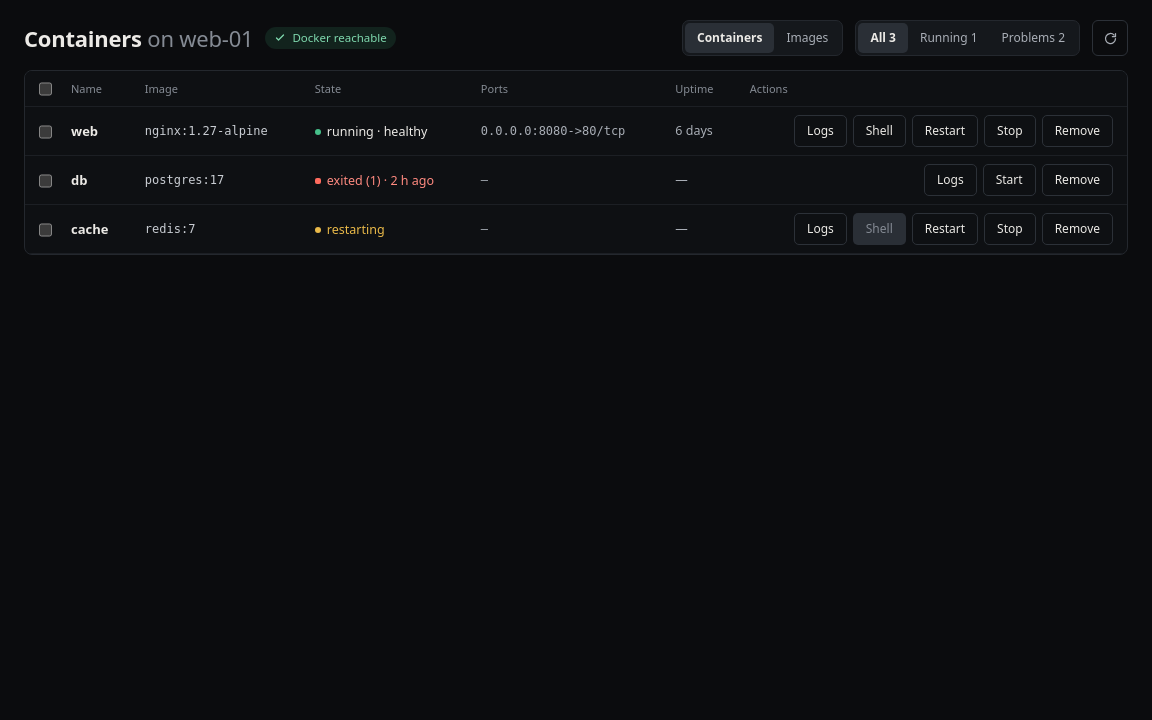
Scenario: DockerWorkspace › restarts after confirmation, reports it and refreshes the list
The width and height of the screenshot is (1152, 720).
Expected: the text "Docker reachable" is shown, [266,27,396,49]
Click the button with aria-label "Restart web": (945, 131) [912,115,978,147]
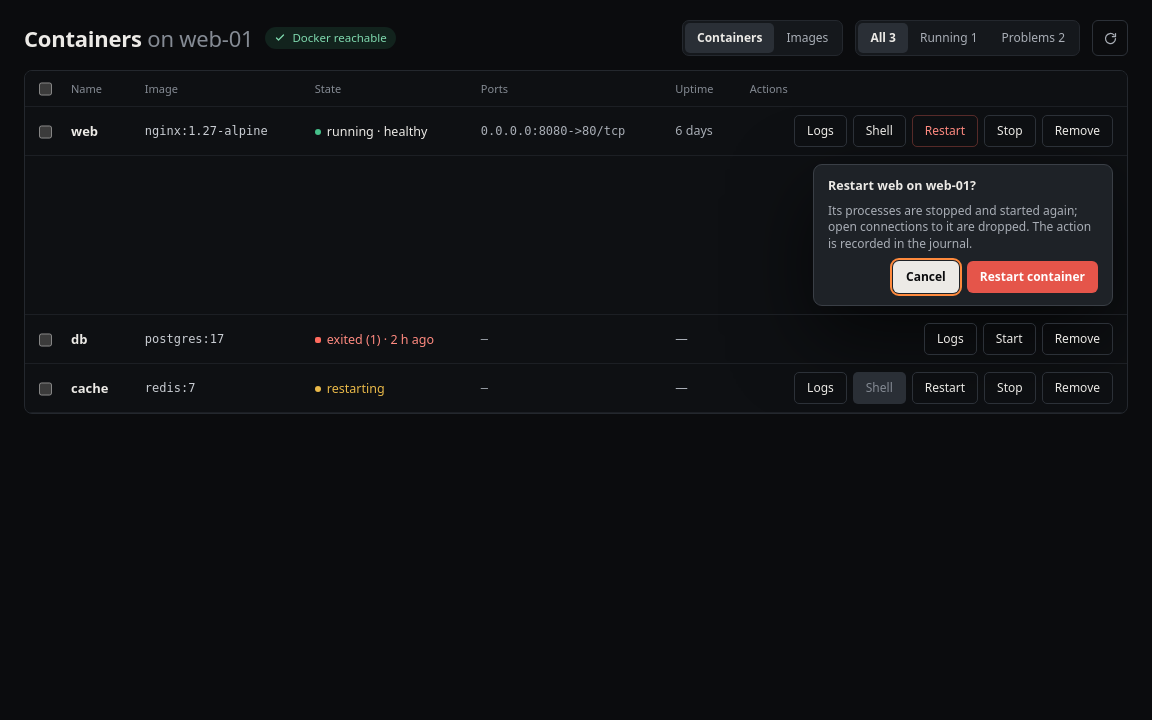
Click the button "Restart container": (1032, 277) [967,261,1098,293]
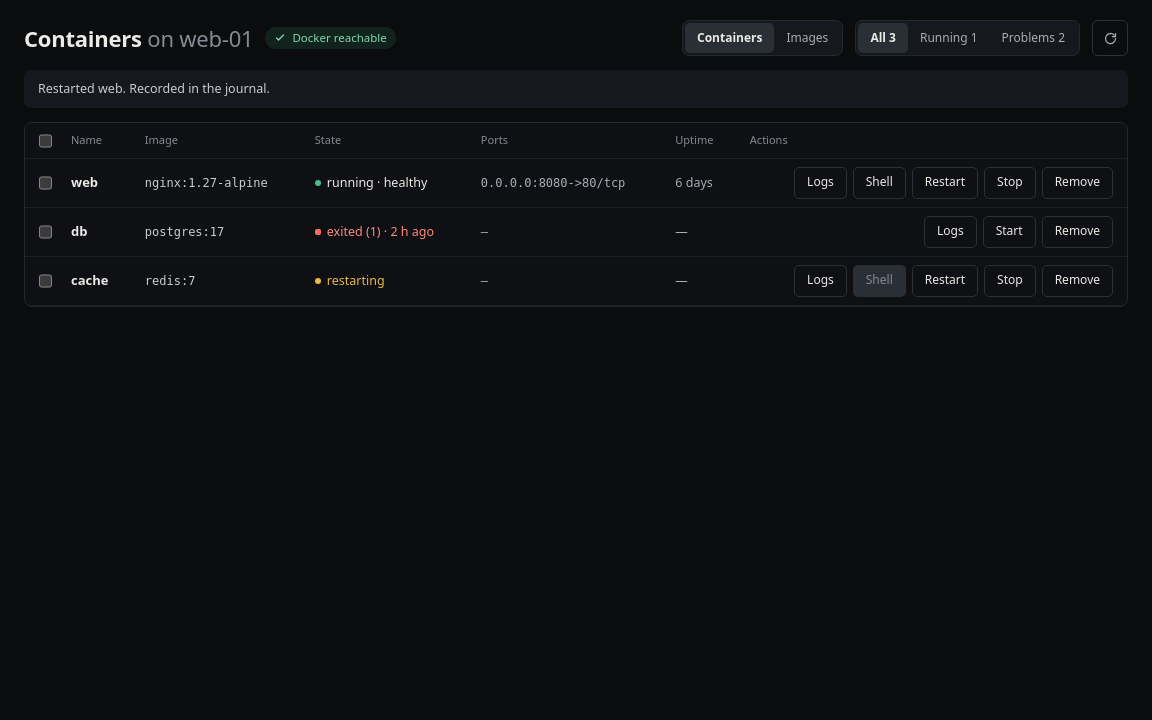
Now the text "Restarted web. Recorded in the journal." is shown, box [24,70,1128,108]
